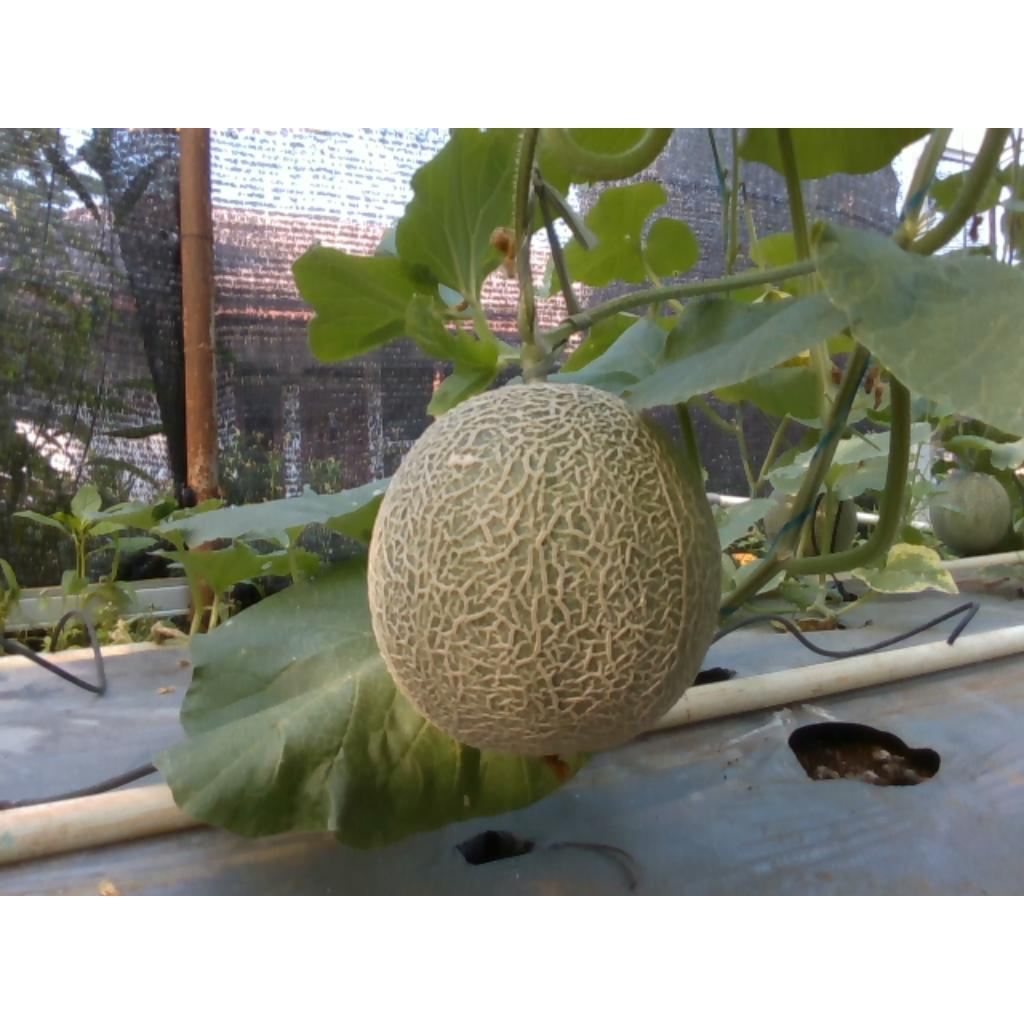melon: (368, 382, 722, 756)
